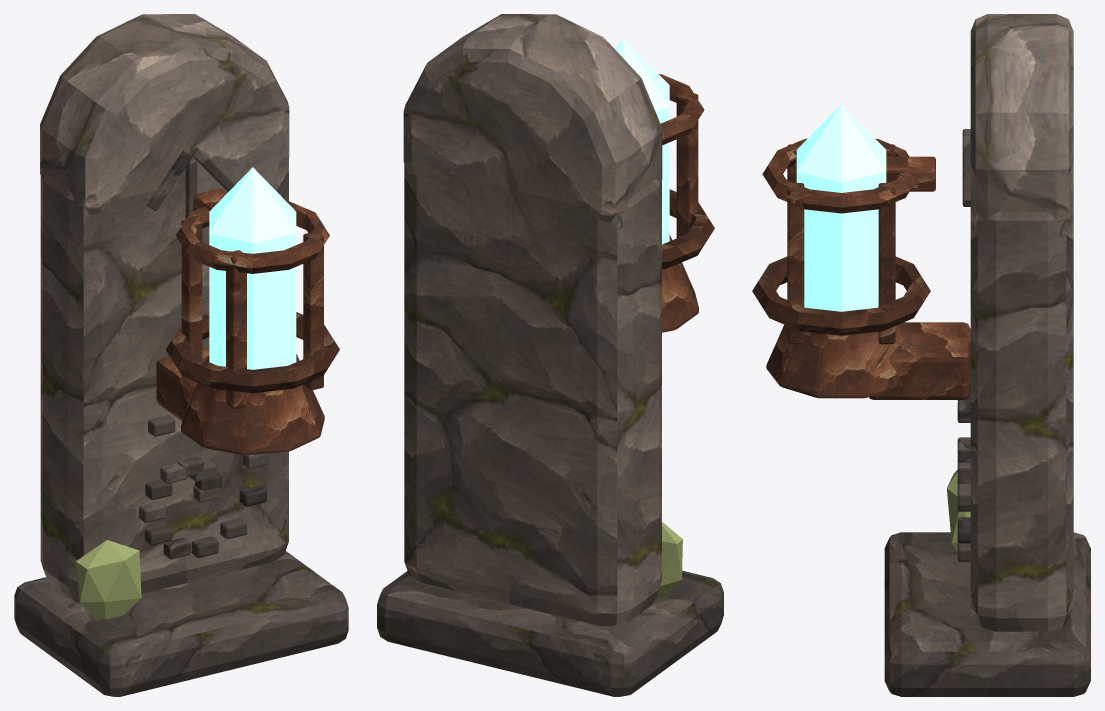
Rendered from crystal_sconce.glb.
The picture shows the model from 3 angles, left to right: view 1: azimuth 30°, elevation 25°; view 2: azimuth 150°, elevation 25°; view 3: azimuth 270°, elevation 25°; orthographic projection. The views are drawn at different scales.
Visible parts, largest first — view 1: model; view 2: model; view 3: model.
Boxes of the visible parts, box(x1,y1,x2,y2) form: model: box(14, 14, 348, 696); model: box(377, 14, 723, 696); model: box(752, 14, 1090, 696).
Bounding box in the file's own units: 0.34 × 0.79 × 0.394.
Materials: 7 (5 with a texture image).
